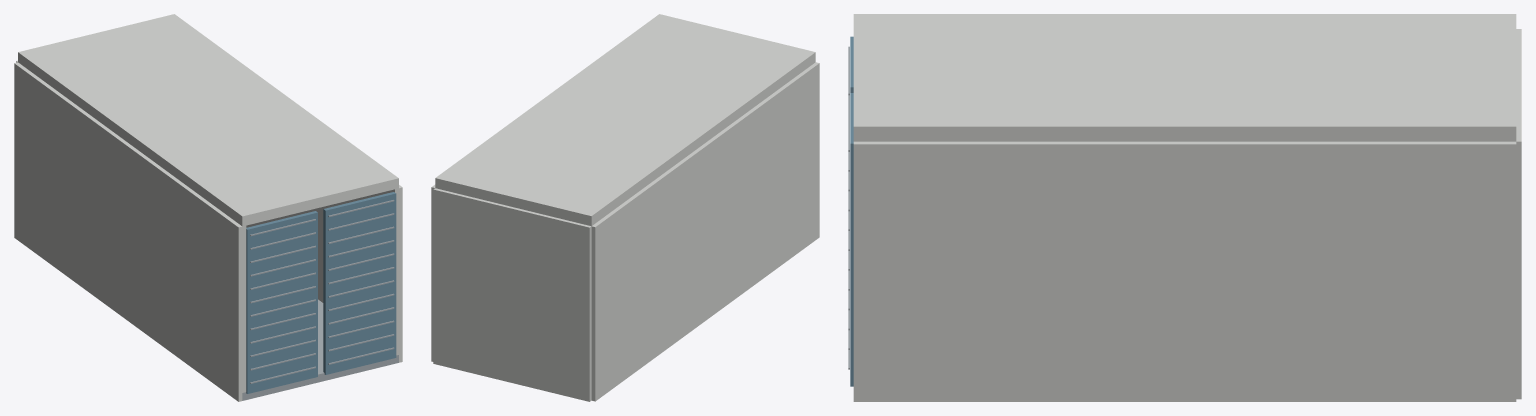
The model's file is long-haul-trucking-and-truck-stop-container-20ft-bc3beca3.glb.
The picture shows the model from 3 angles, left to right: view 1: azimuth 30°, elevation 25°; view 2: azimuth 150°, elevation 25°; view 3: azimuth 270°, elevation 25°; orthographic projection. The views are drawn at different scales.
Visible parts, largest first — view 1: container-20ft; view 2: container-20ft; view 3: container-20ft.
Part boxes in pixels (x1,y1,x2,y2): container-20ft: [14, 14, 402, 401]; container-20ft: [431, 14, 819, 401]; container-20ft: [848, 14, 1521, 401].
Size of the model in its own units: 2.56 by 2.75 by 6.16.
